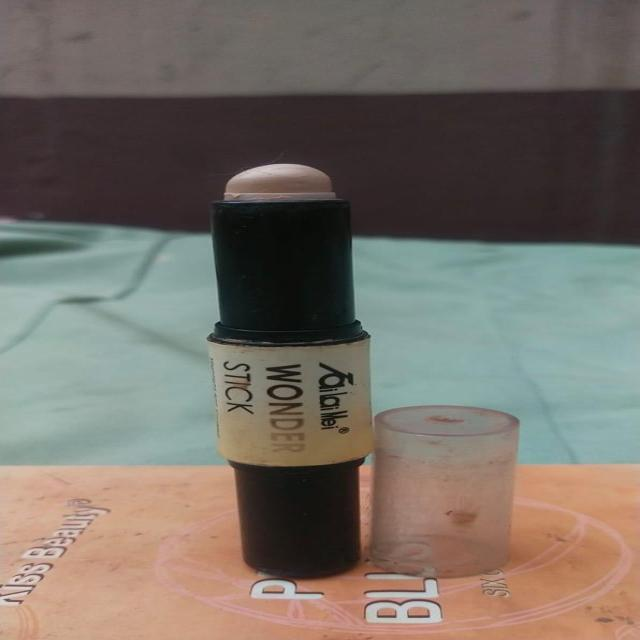concealer: (168, 145, 543, 594), (182, 148, 382, 582)
